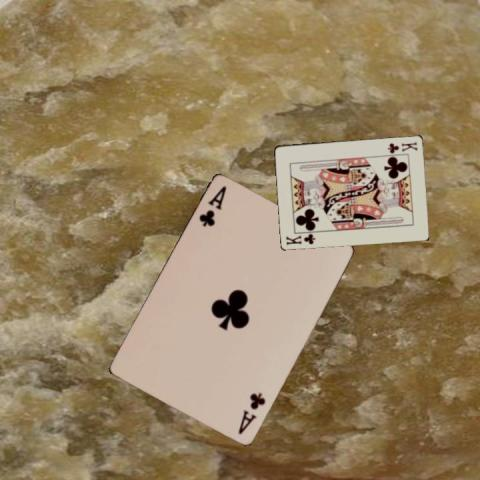Ac: (236, 390, 268, 436), (196, 183, 228, 229)
Kc: (384, 139, 418, 154), (283, 231, 317, 246)
